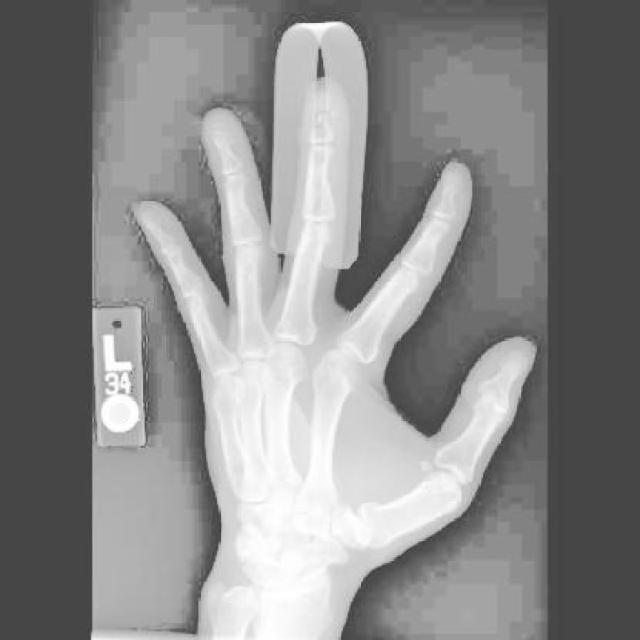Fracture: (305, 95, 336, 128), (208, 117, 234, 148)
